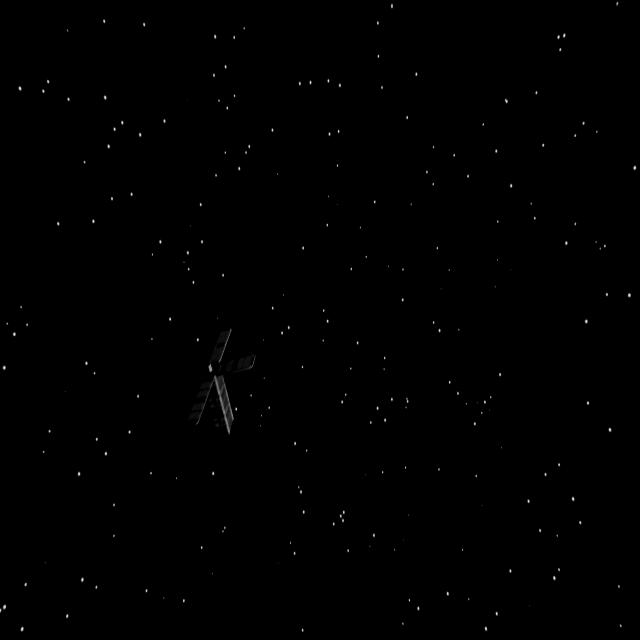medium_debris: (182, 324, 251, 448)
